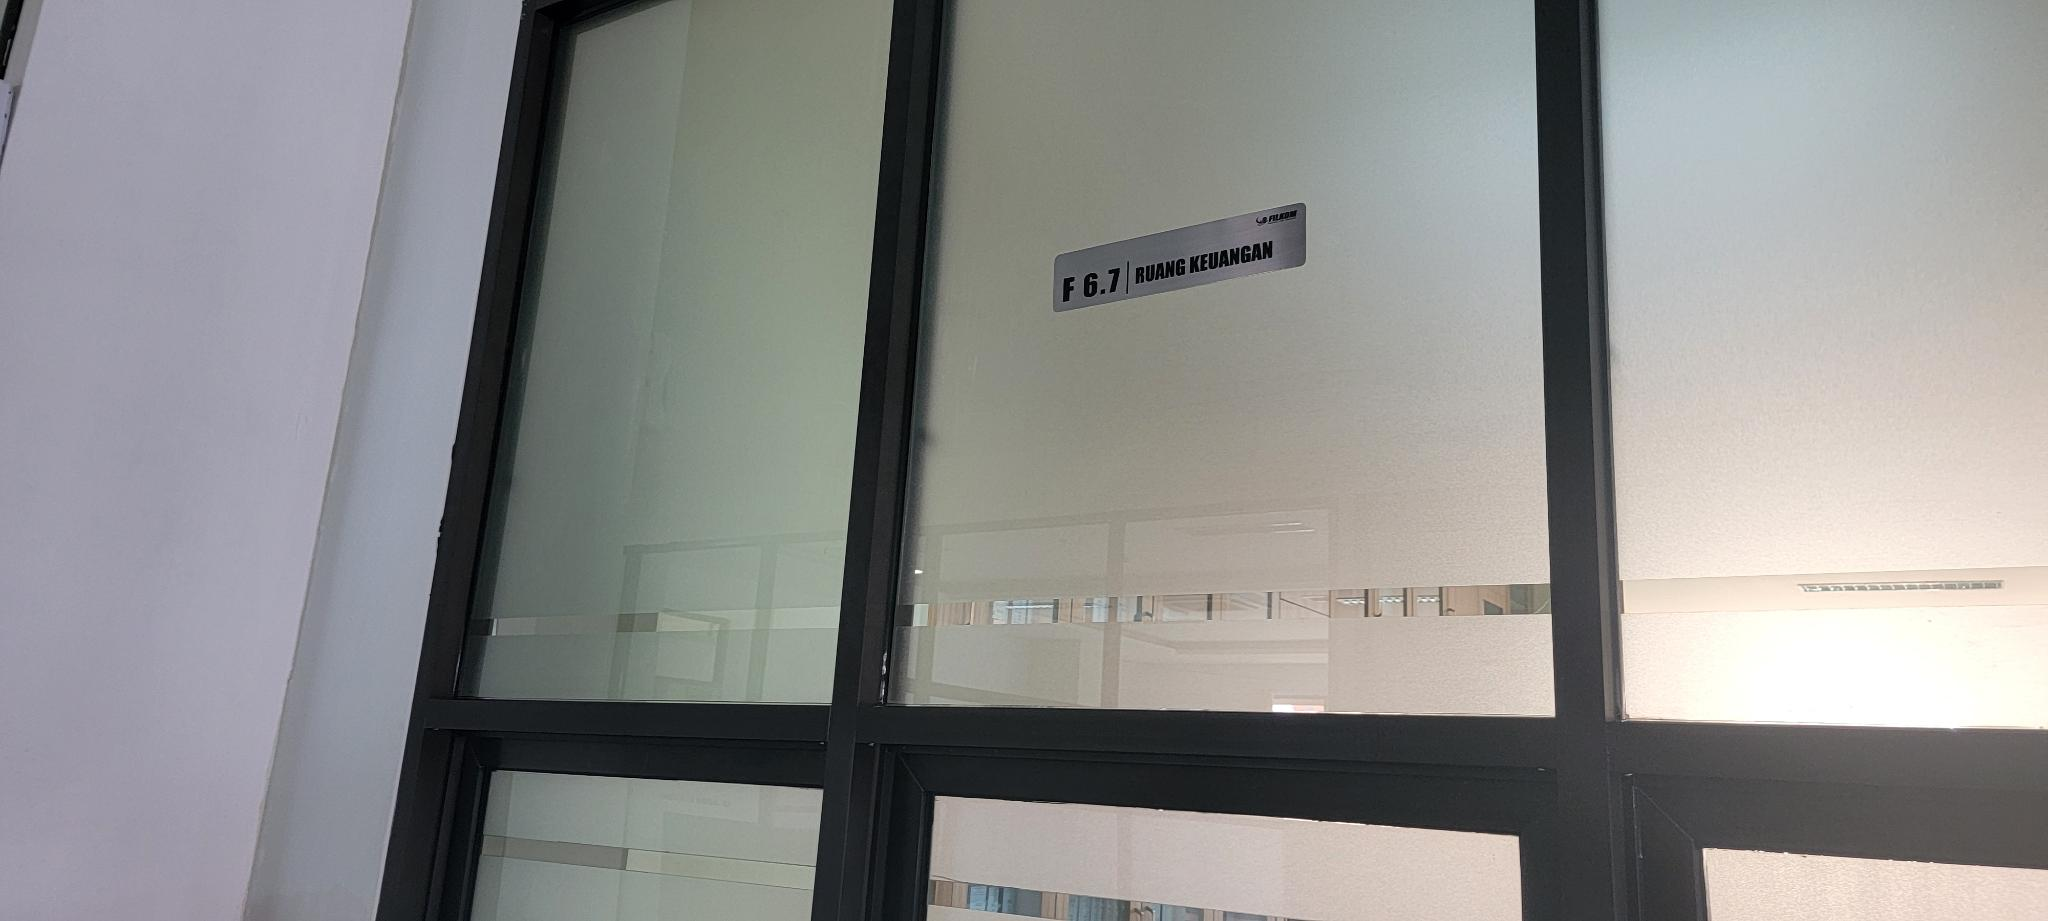plate: (1051, 201, 1307, 314)
